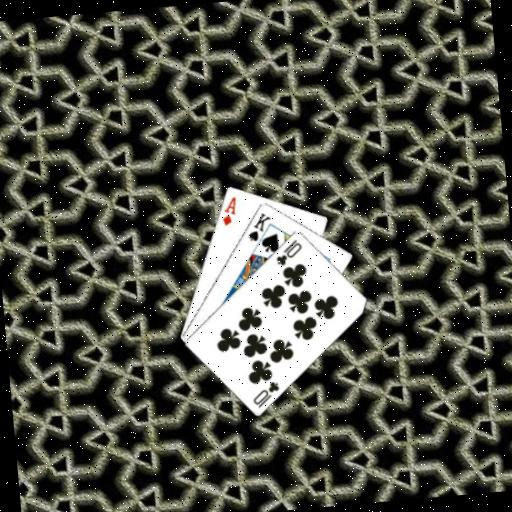10C: (249, 377, 283, 410), (271, 235, 305, 267)
AD: (217, 193, 240, 227)
KS: (243, 209, 274, 243)
